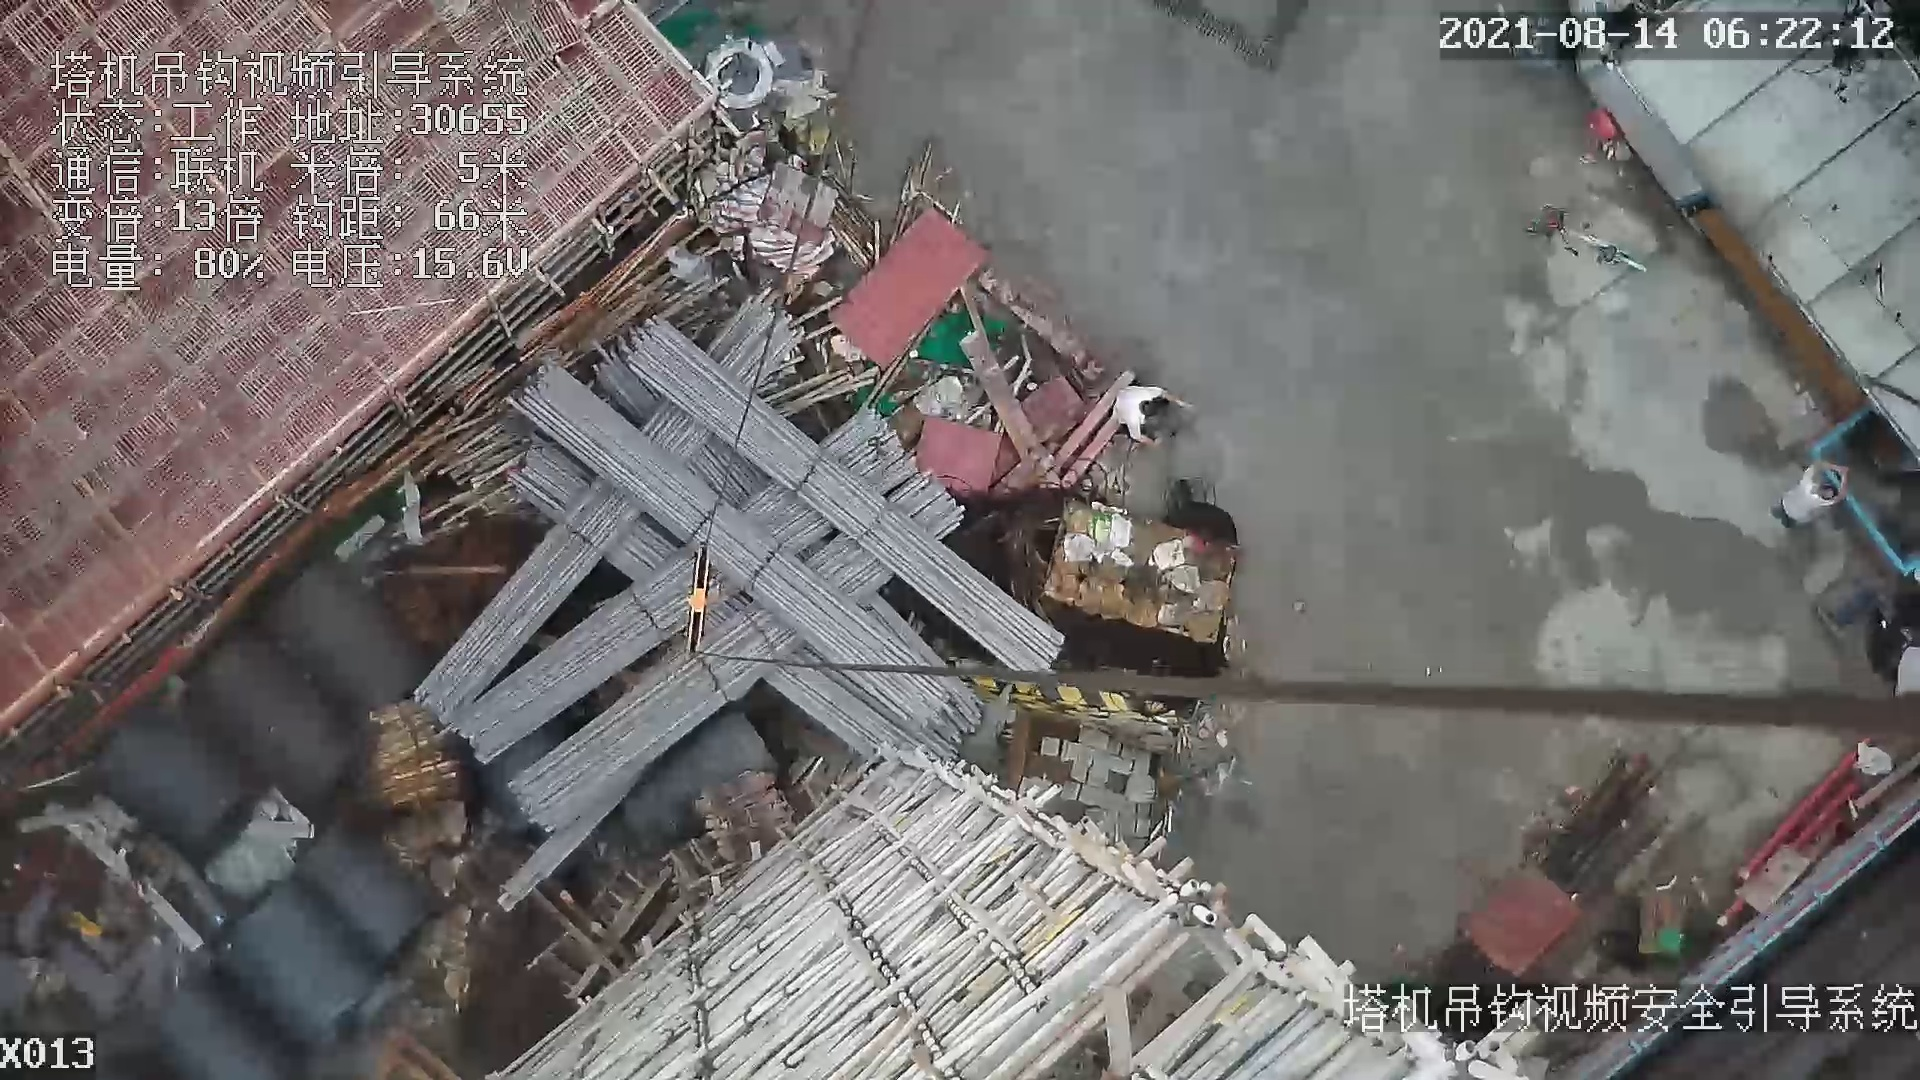hook: (685, 542, 719, 659)
person: (1096, 372, 1200, 454)
scaffold: (383, 335, 1055, 790)
